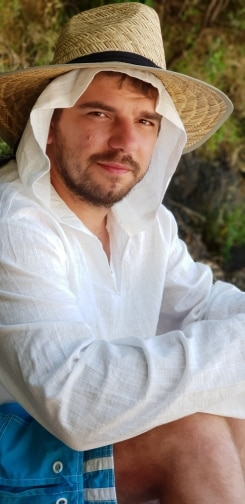shirts: (4, 197, 245, 442)
